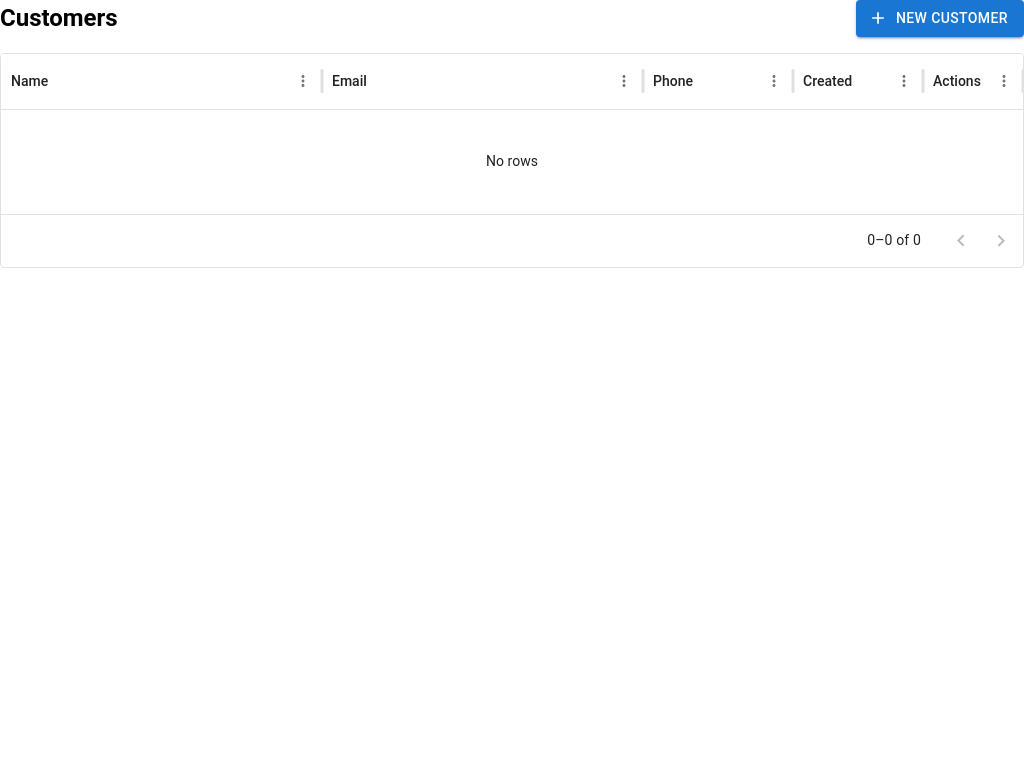
CompanyCustomers › opens the create dialog from the New Customer button
Click the button "New Customer" at (940, 18), box x1=856 y1=0 x2=1023 y2=36
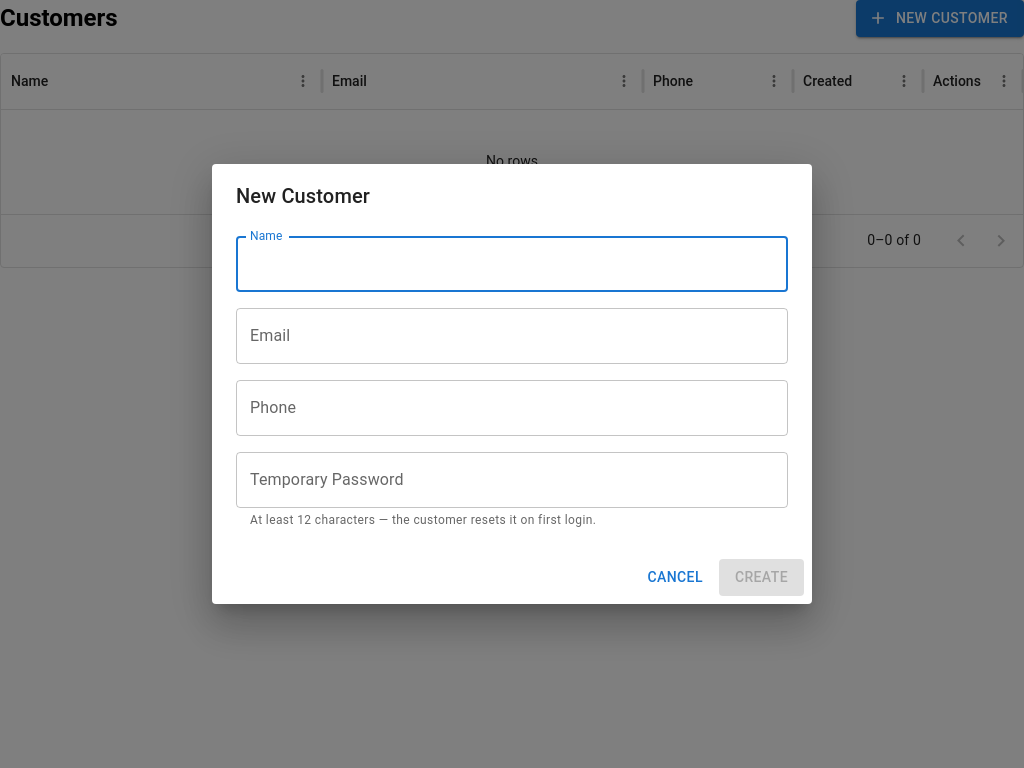
Check: the field labelled "Email" is shown, box x1=236 y1=308 x2=788 y2=364
